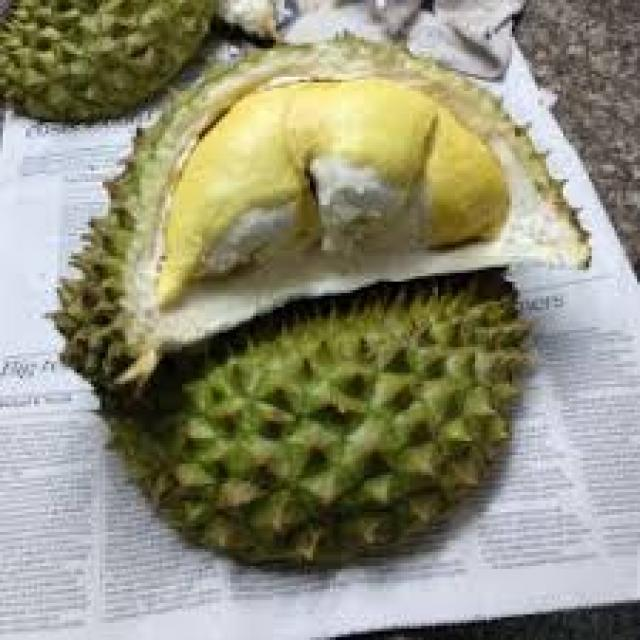organic waste: (42, 25, 592, 392), (91, 262, 532, 563), (148, 71, 318, 302), (273, 71, 432, 250), (0, 0, 216, 117), (410, 106, 506, 250), (216, 0, 276, 34)
